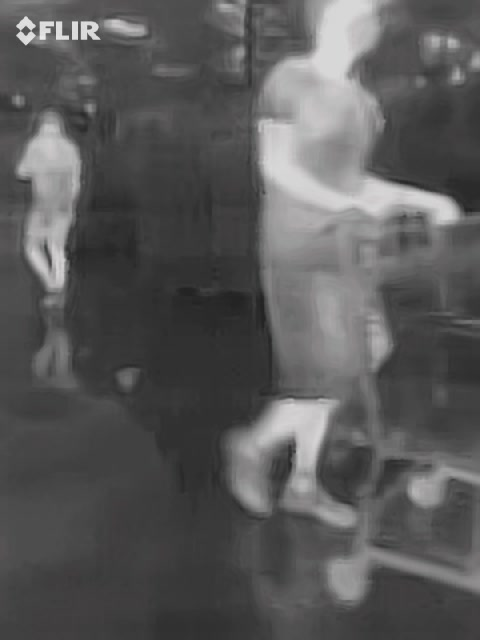head: (308, 1, 386, 65)
